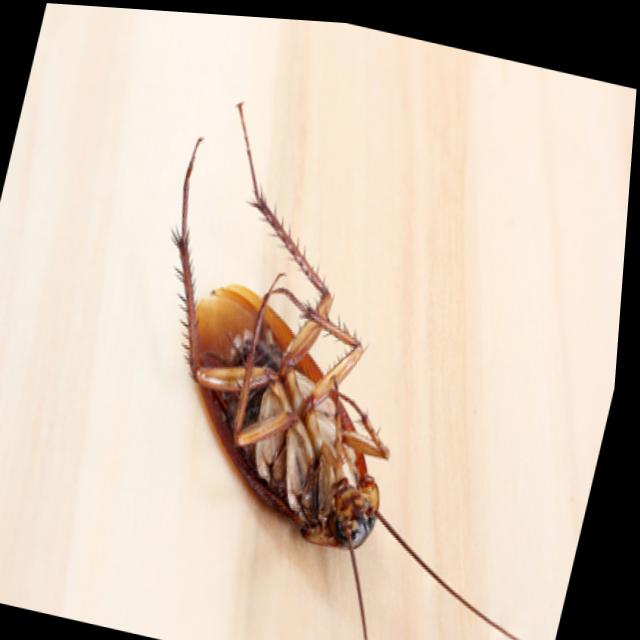Cockroach: (79, 74, 636, 640)
